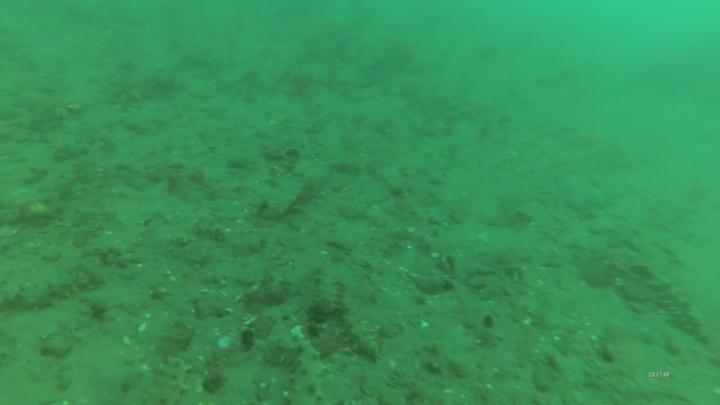holothurian: (658, 277, 712, 344), (286, 333, 334, 405), (340, 310, 392, 367), (149, 355, 199, 405), (316, 276, 342, 319)
